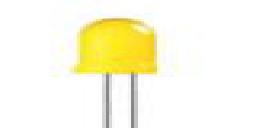LED: (74, 17, 161, 128)
